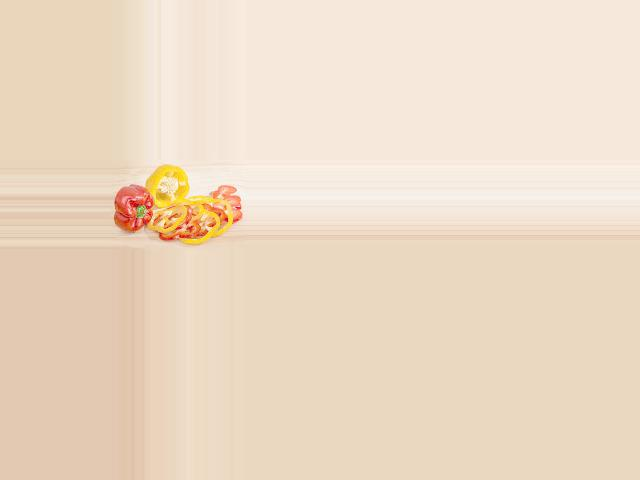bell_pepper: (147, 162, 191, 207)
